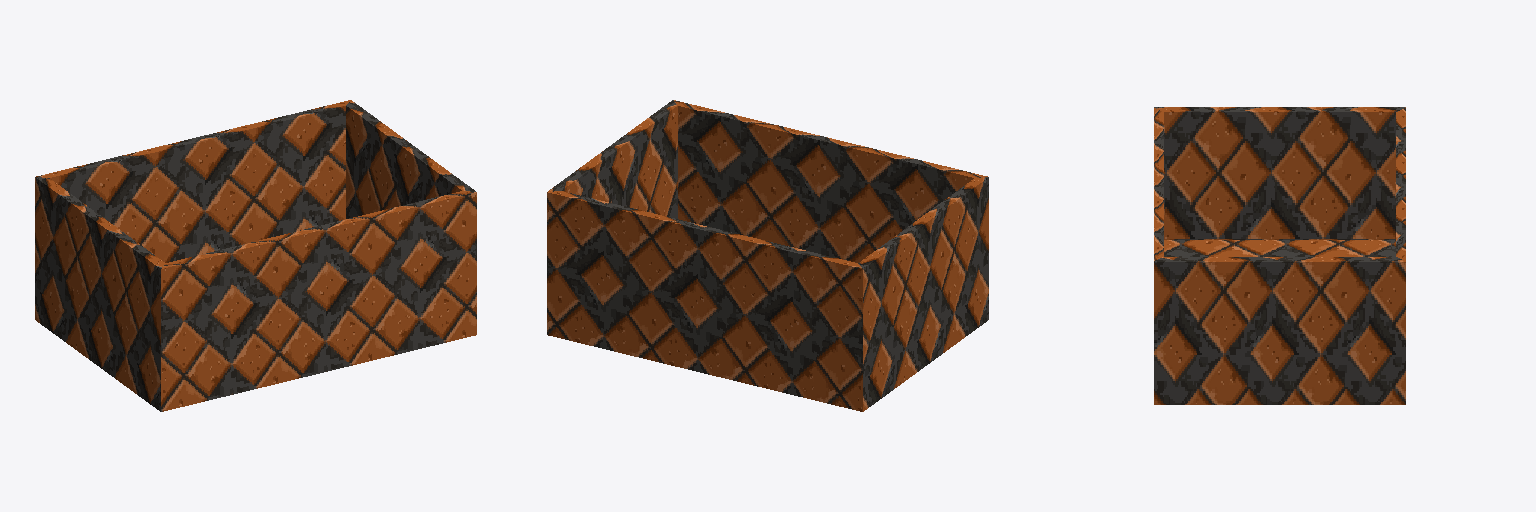
The picture shows the model from 3 angles: view 1: azimuth 30°, elevation 25°; view 2: azimuth 150°, elevation 25°; view 3: azimuth 270°, elevation 25°; orthographic projection.
Parts seen in each view (by area): view 1: pCube1; view 2: pCube1; view 3: pCube1.
Boxes of the visible parts, x1,y1,x2,y2 form: pCube1: [35, 100, 476, 411]; pCube1: [547, 100, 988, 411]; pCube1: [1154, 107, 1405, 404].
Size of the model in its own units: 30 by 12.96 by 20.74.
1 materials, 1 textured.